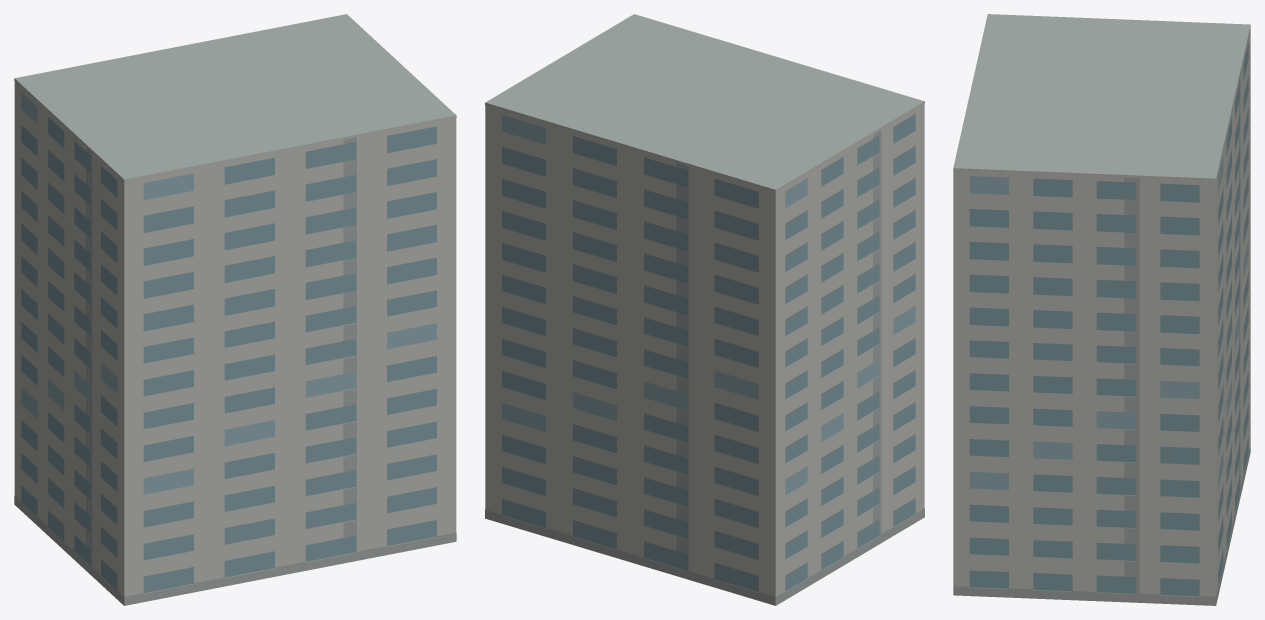
The model's file is residential-7c942e20-f11f-4829-a067-8277fb756eca.glb.
3 views of the same model, side by side, from view 1: azimuth 30°, elevation 25°; view 2: azimuth 150°, elevation 25°; view 3: azimuth 270°, elevation 25° (orthographic). The views are drawn at different scales.
Parts seen in each view (by area): view 1: residential-7c942e20-f11f-4829-a067-8277fb756eca.tmp; view 2: residential-7c942e20-f11f-4829-a067-8277fb756eca.tmp; view 3: residential-7c942e20-f11f-4829-a067-8277fb756eca.tmp.
Boxes of the visible parts, x1,y1,x2,y2 form: residential-7c942e20-f11f-4829-a067-8277fb756eca.tmp: [14, 14, 456, 605]; residential-7c942e20-f11f-4829-a067-8277fb756eca.tmp: [485, 14, 924, 605]; residential-7c942e20-f11f-4829-a067-8277fb756eca.tmp: [953, 14, 1250, 605].
Size of the model in its own units: 30.58 by 37 by 23.36.
